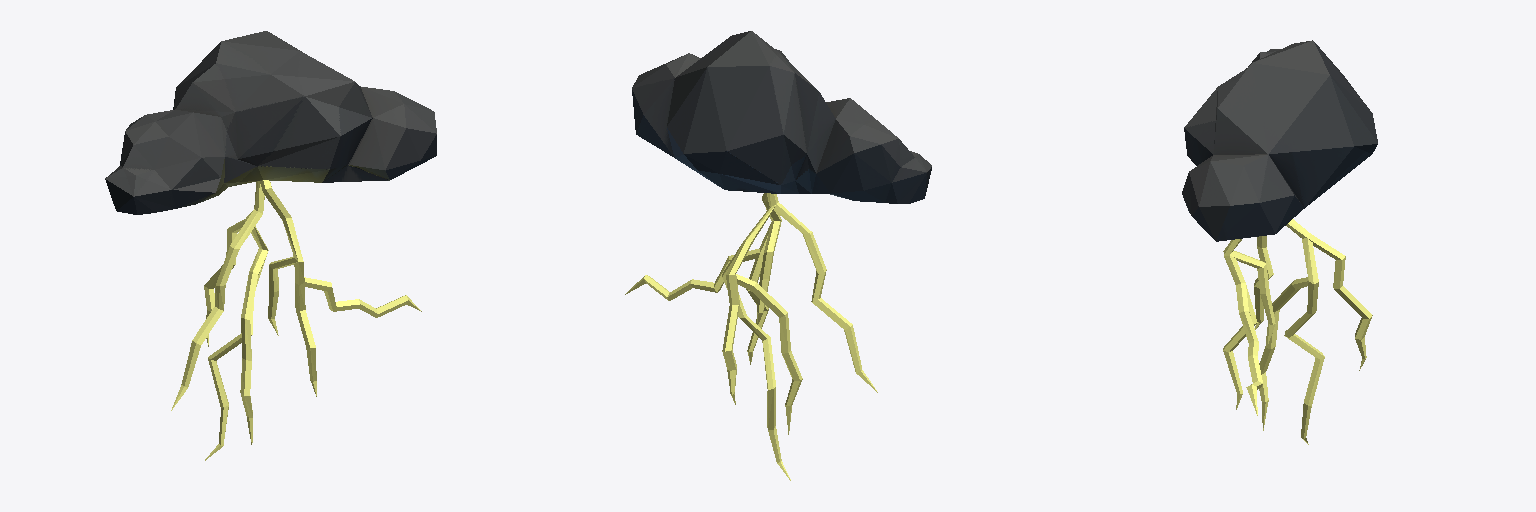
3 renders of one model, left to right at view 1: azimuth 30°, elevation 25°; view 2: azimuth 150°, elevation 25°; view 3: azimuth 270°, elevation 25°, orthographic.
Parts seen in each view (by area): view 1: lightning_bolt; view 2: lightning_bolt; view 3: lightning_bolt.
Boxes of the visible parts, box(x1,y1,x2,y2) form: lightning_bolt: box(105, 31, 436, 460); lightning_bolt: box(625, 31, 931, 480); lightning_bolt: box(1182, 40, 1377, 444).
Bounding box in the file's own units: 2.29 × 2.93 × 1.26.
1 materials, 1 textured.